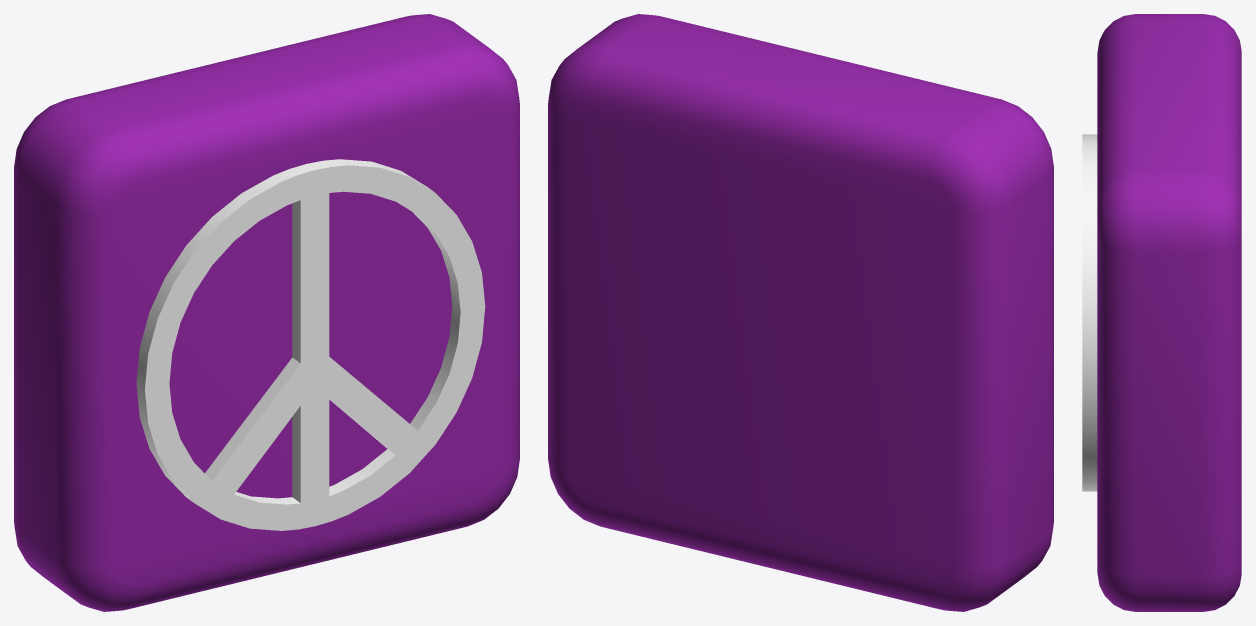
The model's file is peace_symbol.glb.
3 views of the same model, side by side, from view 1: azimuth 30°, elevation 25°; view 2: azimuth 150°, elevation 25°; view 3: azimuth 270°, elevation 25° (orthographic). The views are drawn at different scales.
Parts seen in each view (by area): view 1: Cube.6395; view 2: Cube.6395; view 3: Cube.6395.
Part boxes in pixels (x1,y1,x2,y2): Cube.6395: [14, 14, 519, 611]; Cube.6395: [548, 14, 1053, 611]; Cube.6395: [1082, 14, 1241, 611].
Bounding box in the file's own units: 2.2 × 2.2 × 0.73.
Materials: 1 (1 with a texture image).
